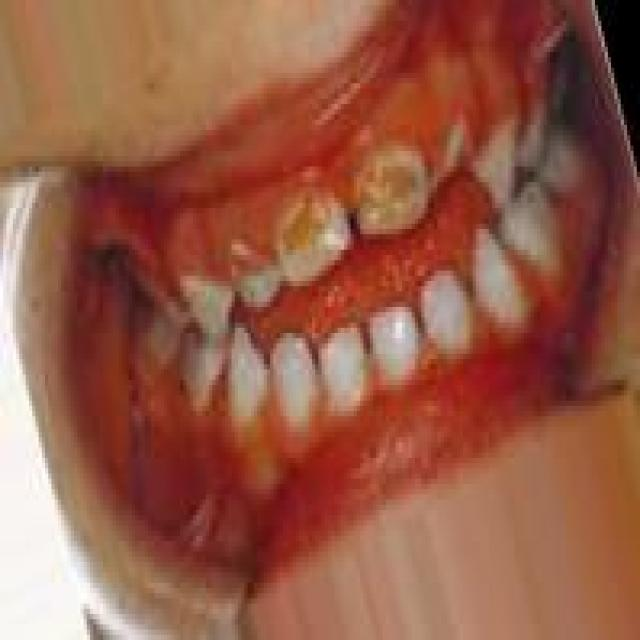caries: (357, 156, 426, 231), (276, 193, 340, 262), (434, 137, 494, 196)
